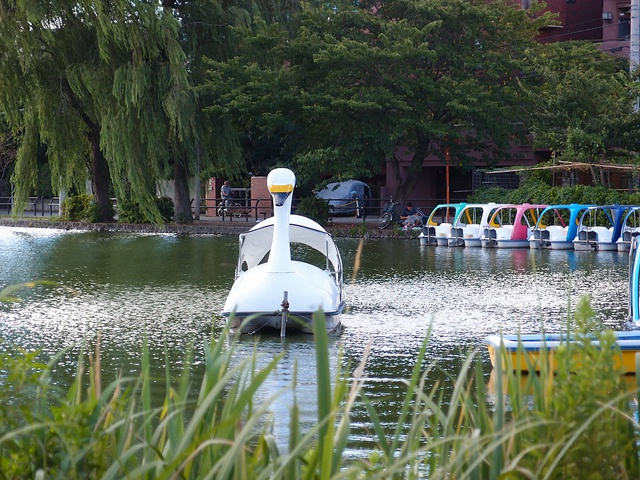non-vehicle: (375, 194, 425, 229), (216, 195, 243, 219)
